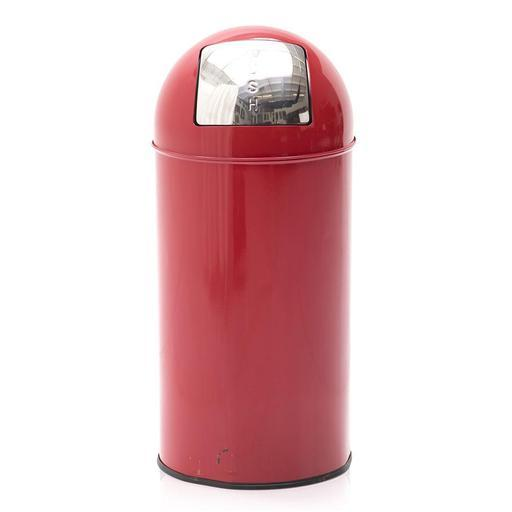Crewmate: (148, 25, 359, 491)
